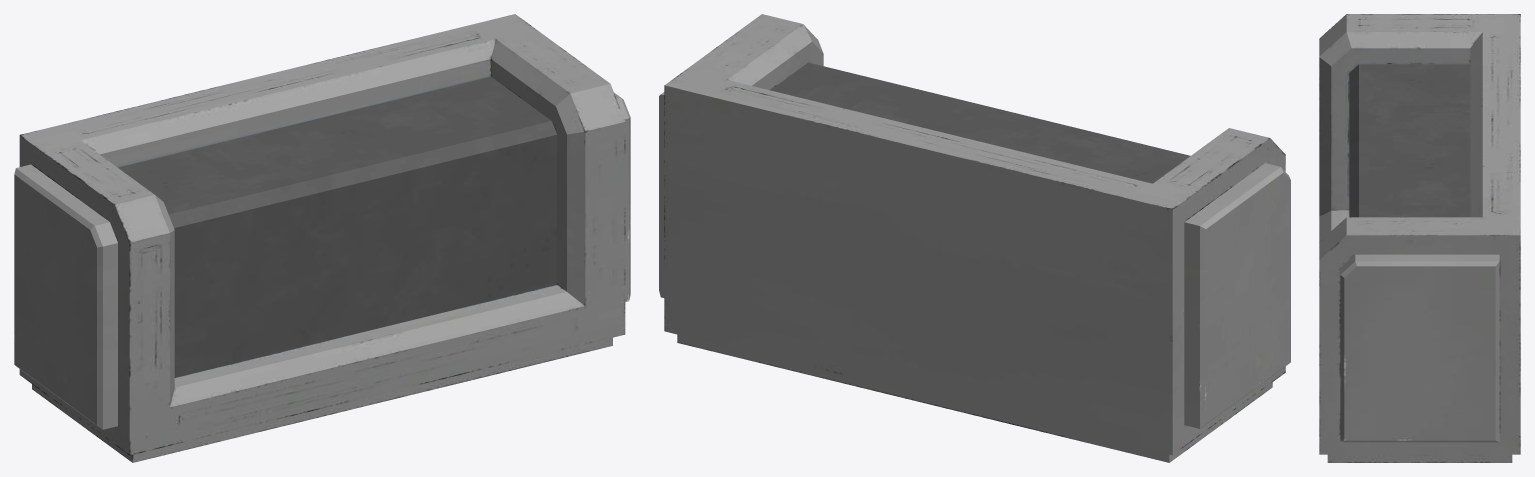
Rendered from Cont_DisplayCase_1.glb.
3 renders of one model, left to right at view 1: azimuth 30°, elevation 25°; view 2: azimuth 150°, elevation 25°; view 3: azimuth 270°, elevation 25°, orthographic. The views are drawn at different scales.
Visible parts, largest first — view 1: Cont_DisplayCase_1, Cont_DisplayCase_1_Glass; view 2: Cont_DisplayCase_1, Cont_DisplayCase_1_Glass; view 3: Cont_DisplayCase_1, Cont_DisplayCase_1_Glass.
Boxes of the visible parts, <box> form: Cont_DisplayCase_1: <box>14,14,630,462</box>; Cont_DisplayCase_1_Glass: <box>118,76,557,377</box>; Cont_DisplayCase_1: <box>659,14,1290,462</box>; Cont_DisplayCase_1_Glass: <box>770,62,1190,183</box>; Cont_DisplayCase_1: <box>1319,14,1520,462</box>; Cont_DisplayCase_1_Glass: <box>1349,64,1470,217</box>.
Bounding box in the file's own units: 2.89 × 1.31 × 1.03.
Materials: 2 (2 with a texture image).
